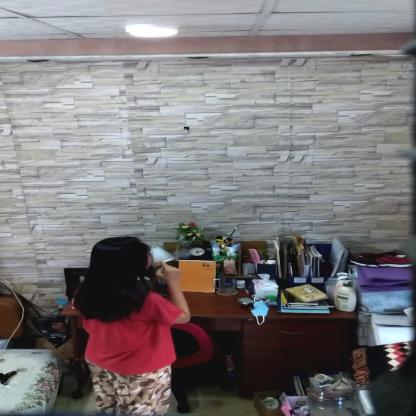cigarette: (164, 256, 176, 263)
person: (72, 235, 195, 415)
